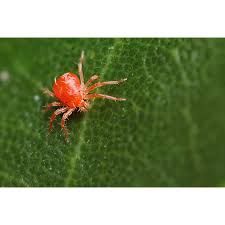Mites: (33, 60, 131, 137)
